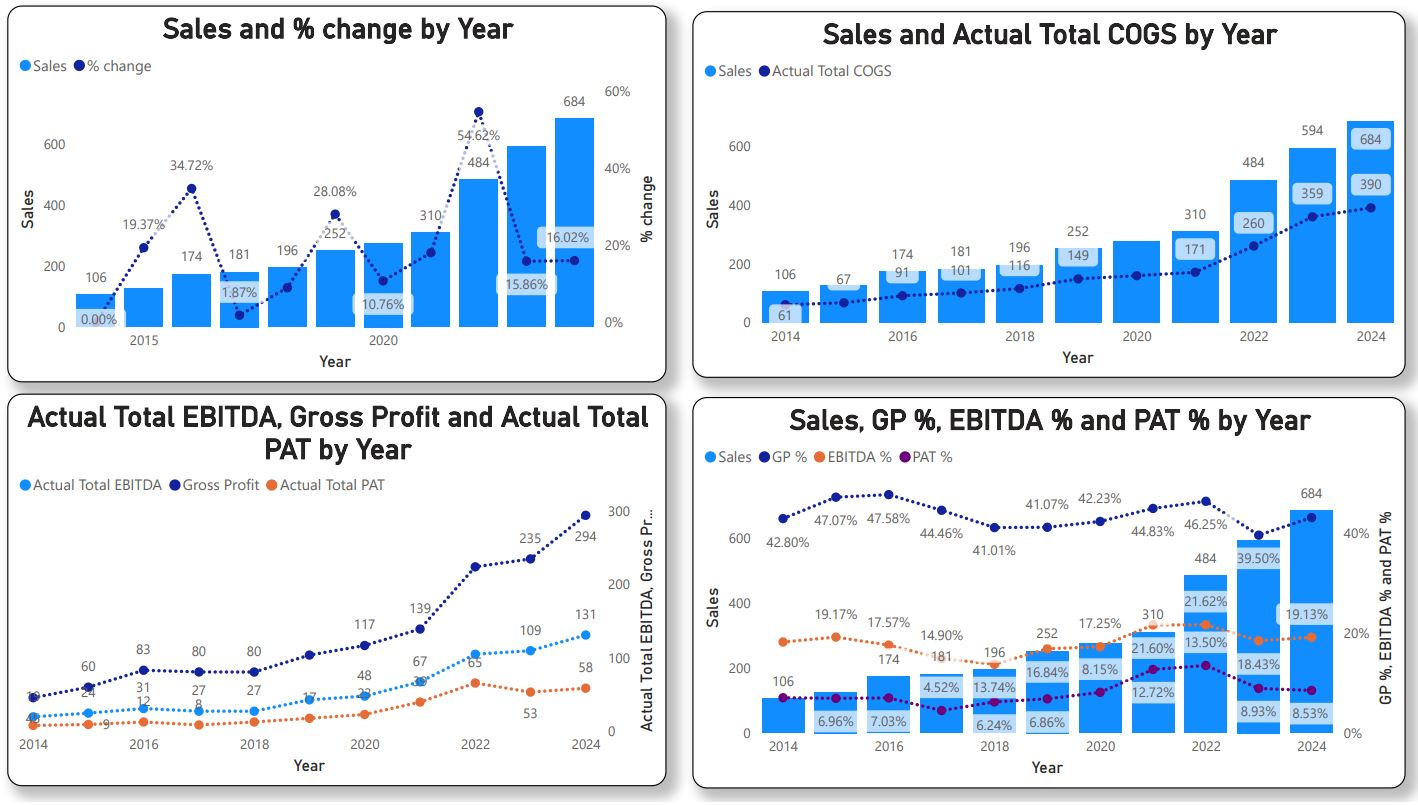

This screenshot's page, from the dashboard's own definition file:
{"tool":"powerbi","page":{"name":"Financial Highlights","canvas":[1280,720],"ordinal":1},"visuals":[{"type":"lineClusteredColumnComboChart","fields":{"Category":["Date Dim.Date.Variation.Date Hierarchy.Year"],"Y":["P&L Fact.Sales"],"Y2":["P&L Fact.% change"]},"box":[9.7,12.1,586.3,335.4],"z":0},{"type":"lineClusteredColumnComboChart","fields":{"Category":["Date Dim.Date.Variation.Date Hierarchy.Year"],"Y":["P&L Fact.Sales"],"Y2":["P&L Fact.Actual Total COGS"]},"box":[618.9,16.9,634.6,325.7],"z":1000},{"type":"lineChart","fields":{"Category":["Date Dim.Date.Variation.Date Hierarchy.Year"],"Y2":["P&L Fact.Actual Total EBITDA","P&L Fact.Gross Profit","P&L Fact.Actual Total PAT"]},"box":[9.7,357.1,586.3,348.7],"z":2000},{"type":"lineClusteredColumnComboChart","fields":{"Category":["Date Dim.Date.Variation.Date Hierarchy.Year"],"Y":["P&L Fact.Sales"],"Y2":["P&L Fact.GP %","P&L Fact.EBITDA %","P&L Fact.PAT %"]},"box":[618.9,359.5,634.6,348.7],"z":3000}]}

Visuals, with their boxes in screenshot pixels (x1, y1, x2, y2), scaled from the page's 1280x720 canvas onto the 1418x805 screenshot:
lineClusteredColumnComboChart - Date Dim.Date.Variation.Date Hierarchy.Year x P&L Fact.Sales: bbox=[11, 14, 660, 389]
lineClusteredColumnComboChart - Date Dim.Date.Variation.Date Hierarchy.Year x P&L Fact.Sales: bbox=[686, 19, 1389, 383]
lineChart - Date Dim.Date.Variation.Date Hierarchy.Year x P&L Fact.Actual Total EBITDA: bbox=[11, 399, 660, 789]
lineClusteredColumnComboChart - Date Dim.Date.Variation.Date Hierarchy.Year x P&L Fact.Sales: bbox=[686, 402, 1389, 792]
